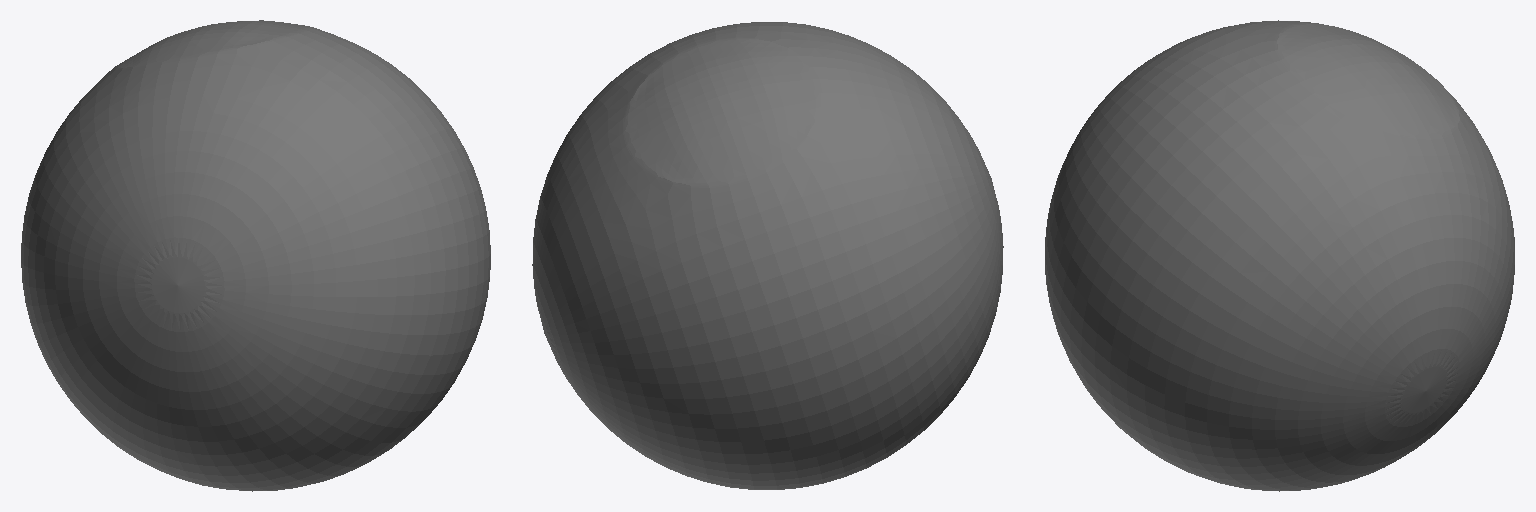
The robot description file, URDF, robot "6_ball":
<?xml version="1.0"?>
<robot name="6_ball">
  <link name="base">
    <visual>
      <geometry>
        <mesh filename="6_ball.obj" scale="1 1 1"/>
      </geometry>
      <material name="gray">
        <color rgba="0.5 0.5 0.5 1.0"/>
      </material>
    </visual>
    <collision>
      <geometry>
        <mesh filename="6_ball.obj" scale="1 1 1"/>
      </geometry>
    </collision>
    <inertial>
      <mass value="1.000"/>
      <inertia
          ixx="0.001034" ixy="0.000000" ixz="0.000000"
          iyy="0.001035" iyz="0.000000"
          izz="0.001033"/>
      <origin xyz="-0.156948 -0.160620 0.833197" rpy="0 0 0"/>
    </inertial>
  </link>
</robot>

--- Facts derived from the render (not from the file) ---
Views: 3 orthographic renders of the robot side by side, from view 1: azimuth 30°, elevation 25°; view 2: azimuth 150°, elevation 25°; view 3: azimuth 270°, elevation 25°.
Robot: 6_ball — 1 links, 0 joints (none); root link base; default pose: all joints at 0.
Links seen in each view (by area): view 1: base; view 2: base; view 3: base.
Link boxes in pixels (box(x1,y1,x2,y2)): base: box(21, 20, 490, 491); base: box(532, 22, 1003, 489); base: box(1045, 20, 1514, 491).
Size in the robot's own frame: 0.0788 by 0.0787 by 0.0788 metres.
Meshes: 1 distinct files referenced, 1 mesh visuals loaded (1 OBJ).
